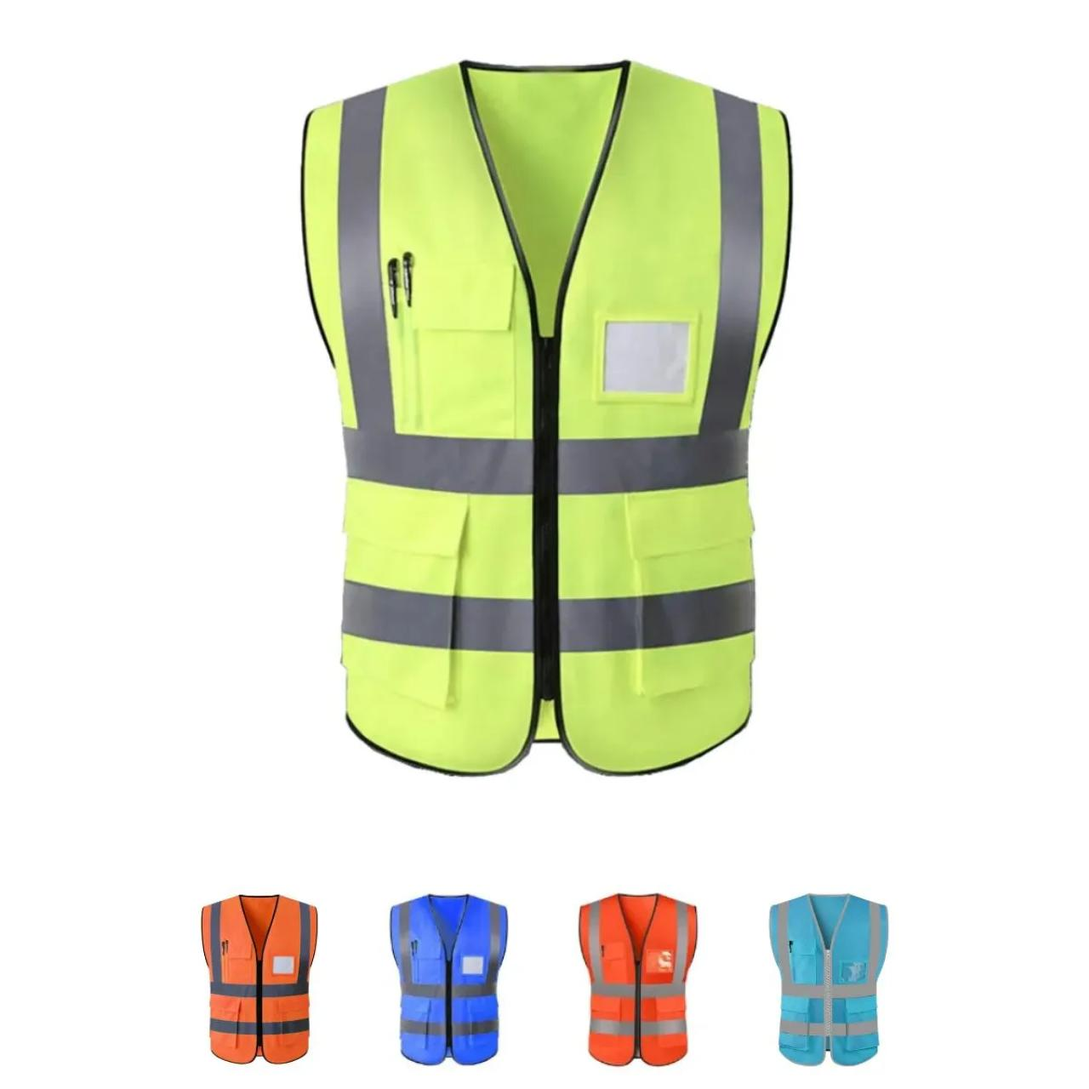Safety_Vest: (276, 21, 889, 811), (754, 877, 951, 1089), (367, 870, 530, 1089), (565, 878, 721, 1089), (171, 875, 326, 1081)
